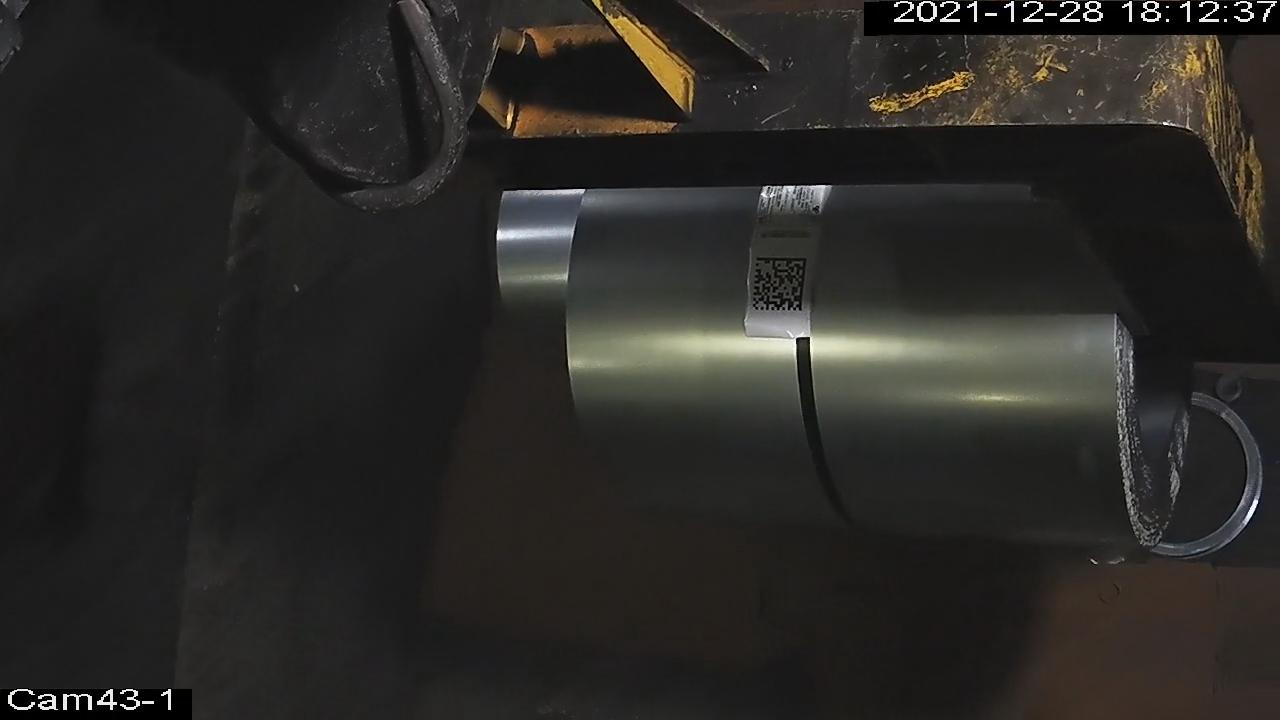data matrix: (750, 255, 810, 315)
